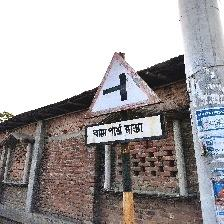Side-road-left: (83, 52, 165, 147)
